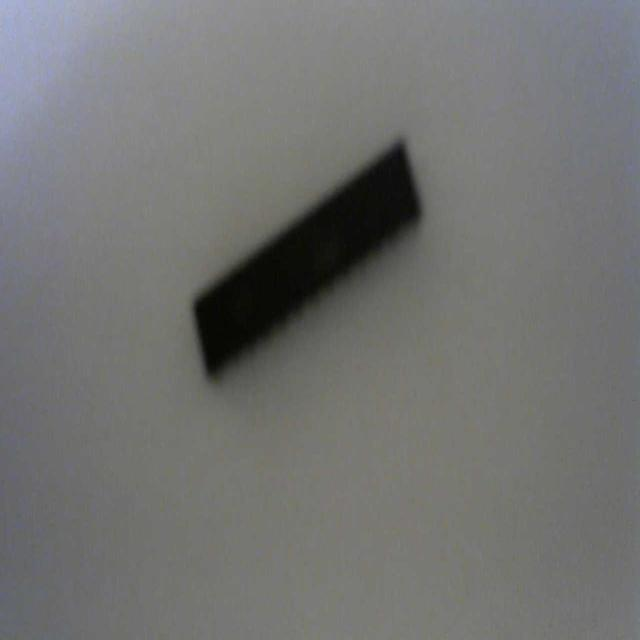atmega: (190, 132, 424, 384)
